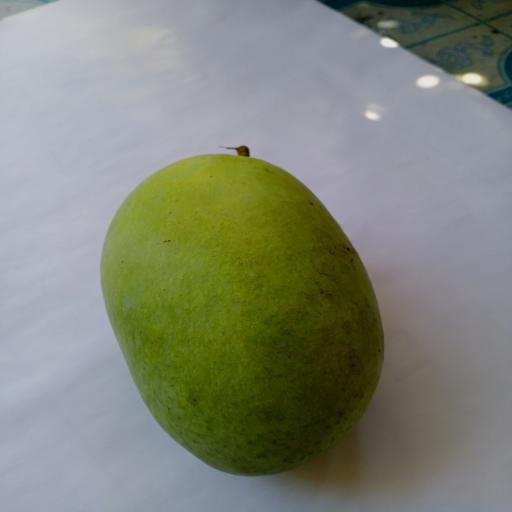mango-unripe: (82, 122, 405, 489)
